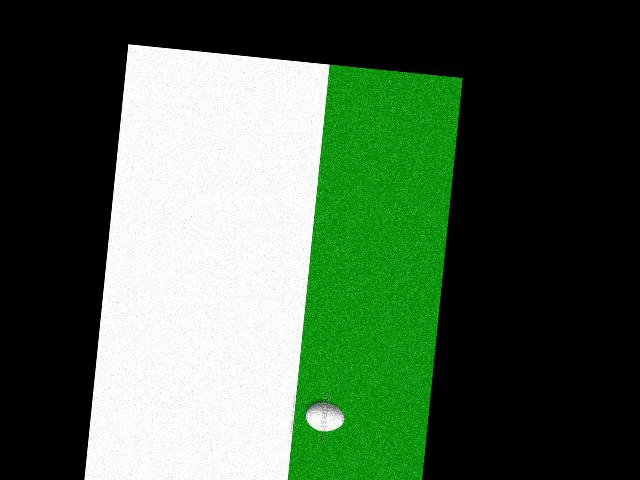egg: (304, 401, 345, 433)
